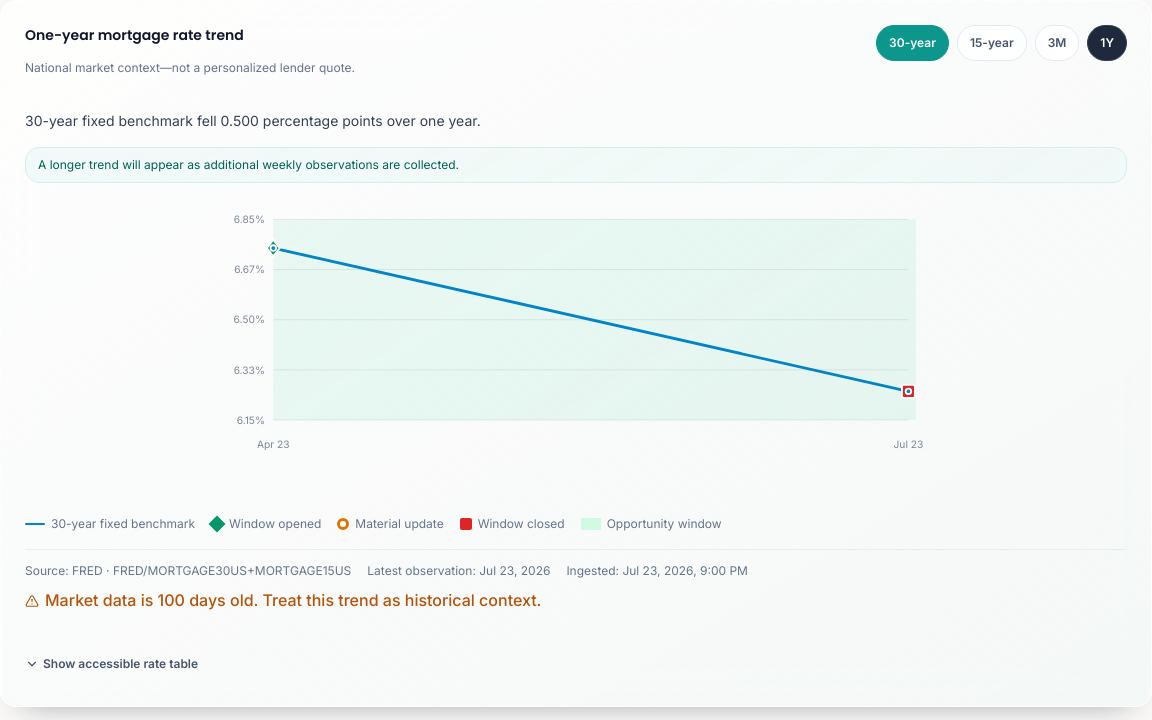
Test: MortgageRateHistoryChart › switches products and exposes the accessible table fallback
The width and height of the screenshot is (1152, 720).
Click the button "15-year": click(992, 43) [957, 25, 1027, 61]
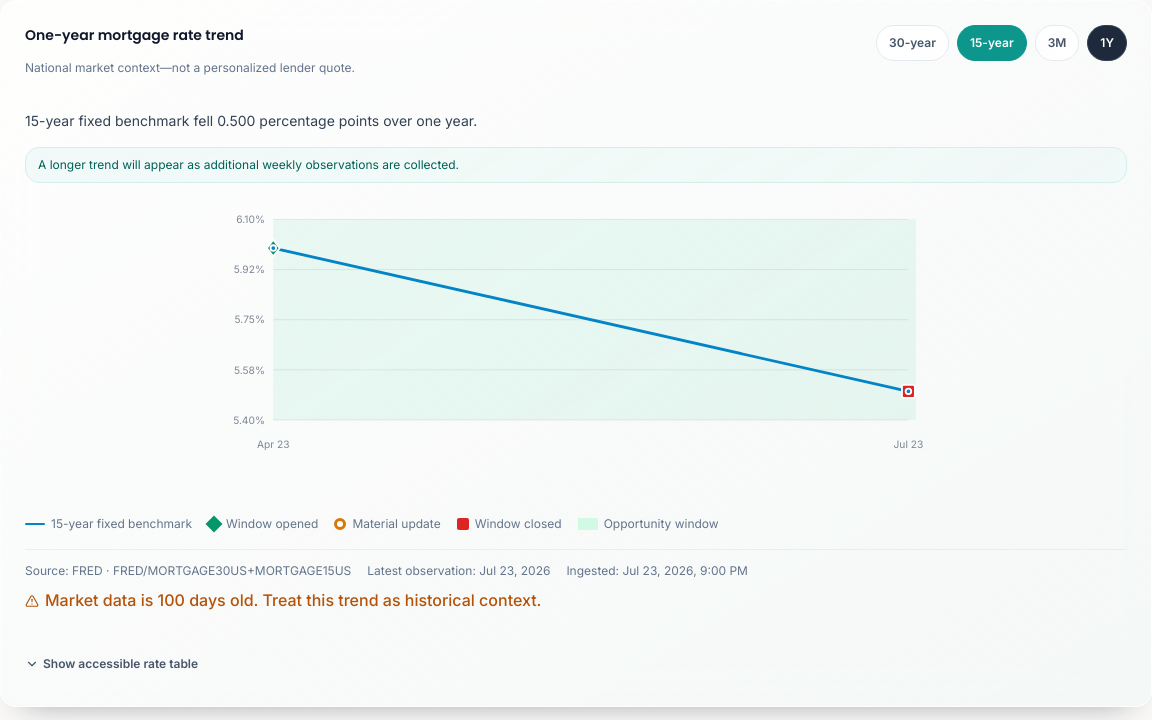
Now the text "15-year fixed benchmark fell 0.500 percentage points" is shown, box [25, 112, 477, 129]
Click the button "Show accessible rate table": click(112, 664) [25, 646, 198, 682]
(page scrolled)
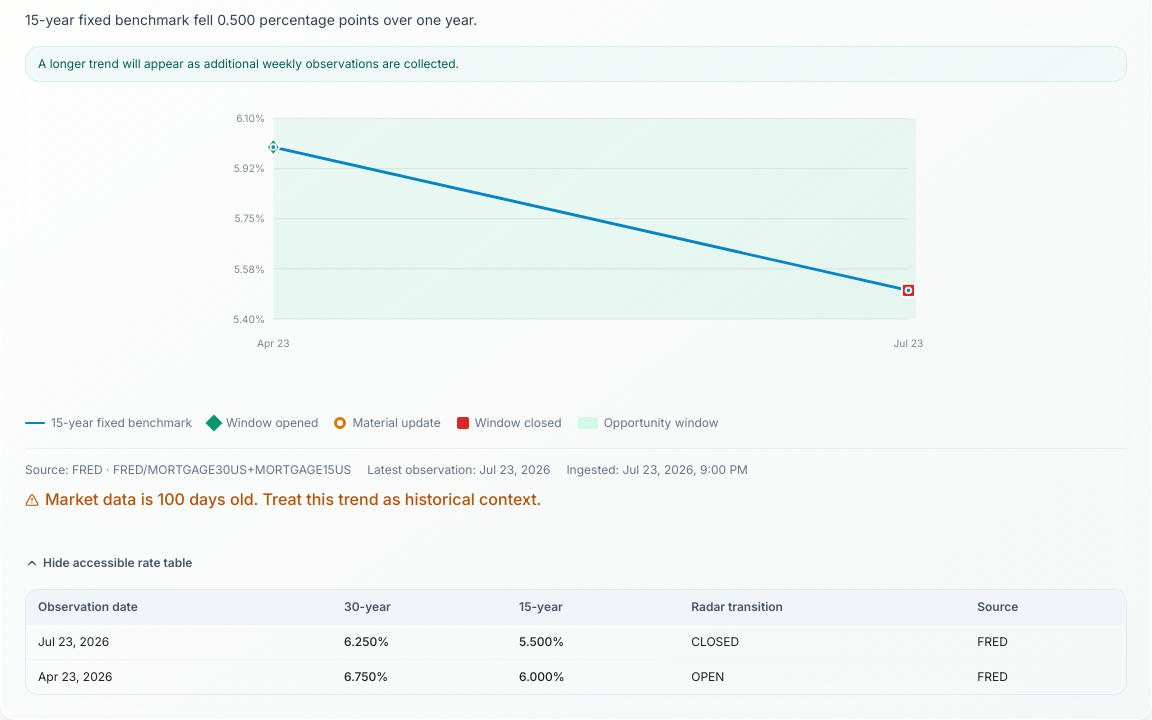
Now the table named "15-year fixed benchmark observations" is shown, box [26, 590, 1126, 694]
Now the column heading "30-year" is shown, box [332, 590, 507, 624]
Now the column heading "15-year" is shown, box [507, 590, 679, 624]
